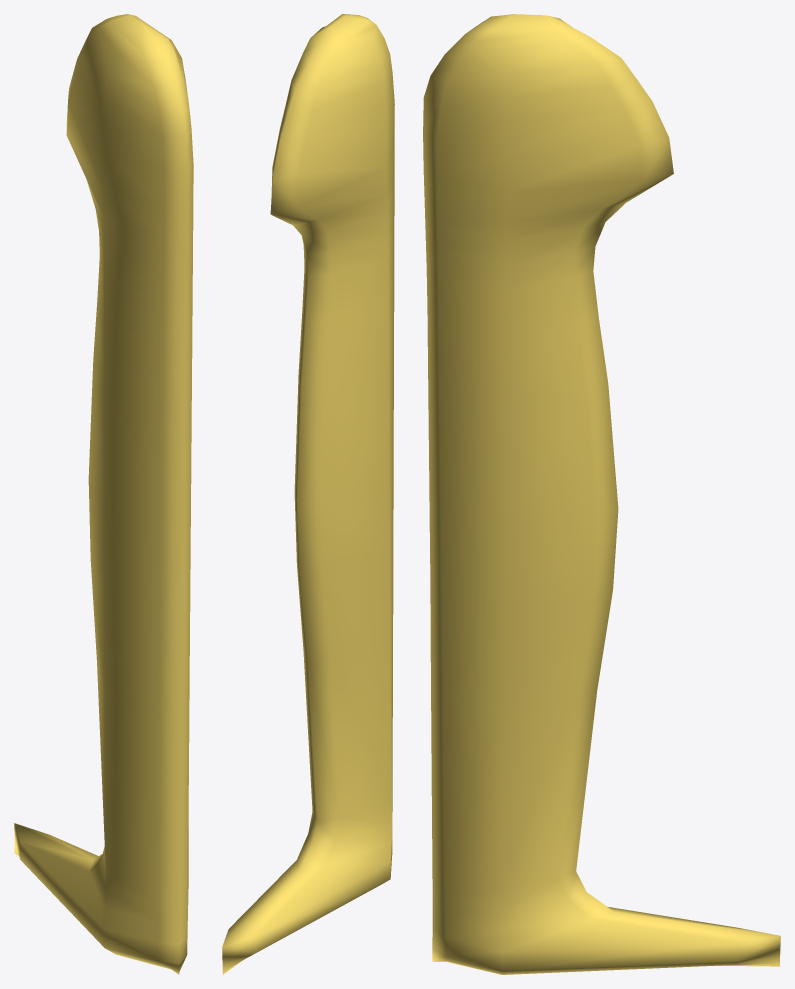
File: MeshCube_000_0_GeomSubset_0.obj
3 views of the same model, side by side, from view 1: azimuth 30°, elevation 25°; view 2: azimuth 150°, elevation 25°; view 3: azimuth 270°, elevation 25° (orthographic). The views are drawn at different scales.
Visible parts, largest first — view 1: MeshCube_000_0_GeomSubset_0; view 2: MeshCube_000_0_GeomSubset_0; view 3: MeshCube_000_0_GeomSubset_0.
Boxes of the visible parts, left/top/right/bottom form: MeshCube_000_0_GeomSubset_0: left=14, top=14, right=193, bottom=974; MeshCube_000_0_GeomSubset_0: left=222, top=14, right=394, bottom=974; MeshCube_000_0_GeomSubset_0: left=423, top=14, right=780, bottom=974.
Bounding box in the file's own units: 0.0131 × 0.1369 × 0.0466.
